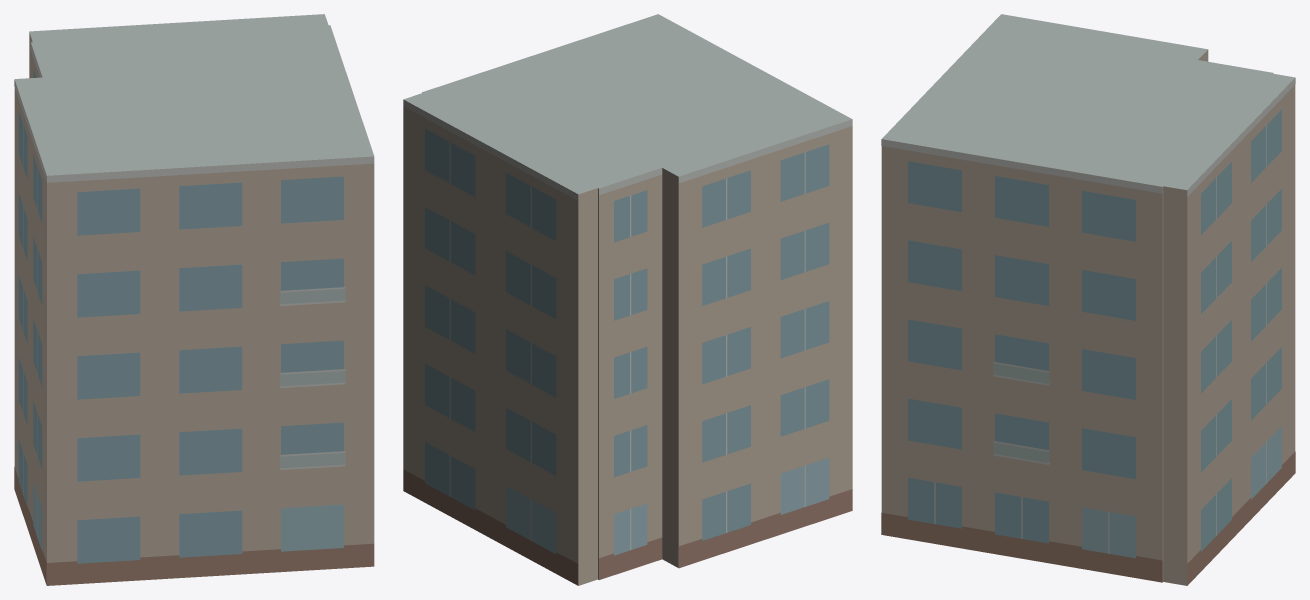
The model's file is survey-upis-32614082.glb.
3 views of the same model, side by side, from view 1: azimuth 30°, elevation 25°; view 2: azimuth 150°, elevation 25°; view 3: azimuth 270°, elevation 25° (orthographic). The views are drawn at different scales.
Visible parts, largest first — view 1: survey-upis-32614082.tmp; view 2: survey-upis-32614082.tmp; view 3: survey-upis-32614082.tmp.
Boxes of the visible parts, left/top/right/bottom form: survey-upis-32614082.tmp: left=14, top=14, right=374, bottom=585; survey-upis-32614082.tmp: left=403, top=14, right=852, bottom=585; survey-upis-32614082.tmp: left=881, top=14, right=1295, bottom=585.
Size of the model in its own units: 13.57 by 14.2 by 13.47.
